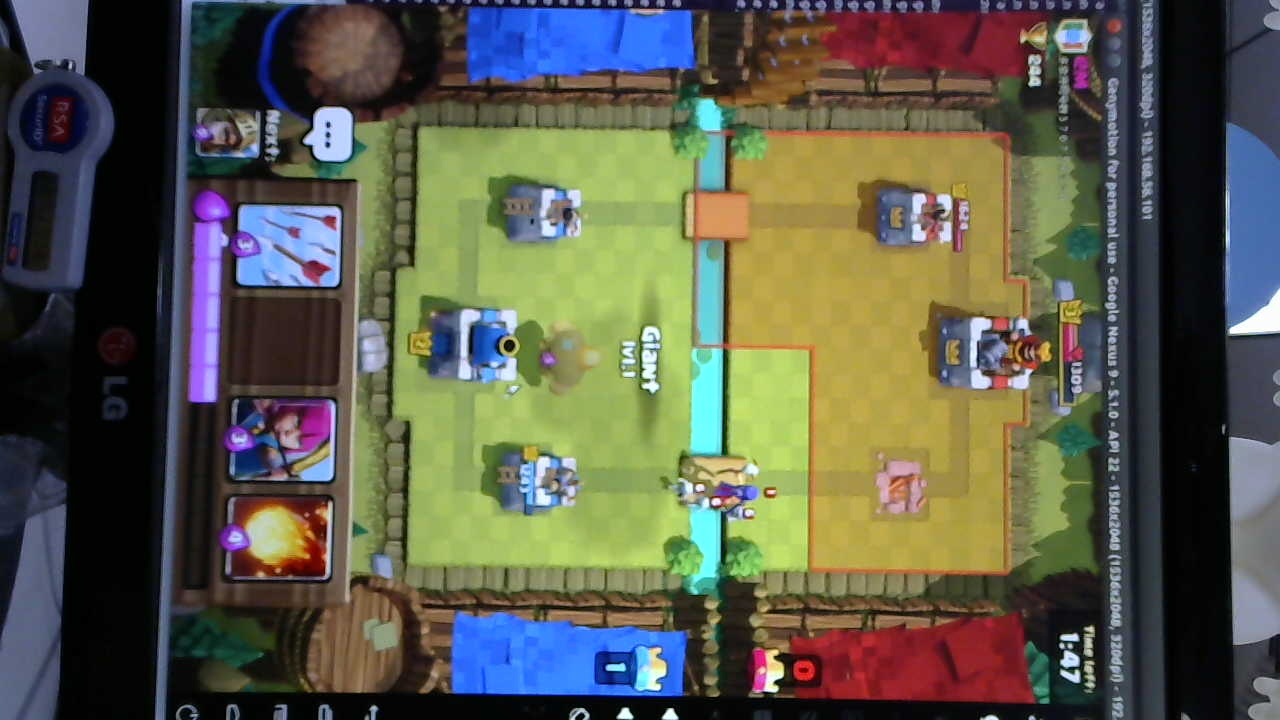arena: (501, 179, 584, 246), (511, 450, 579, 510)
darena: (872, 455, 927, 520)
earena: (876, 188, 956, 250)
eking: (930, 311, 1041, 391)
king: (435, 307, 526, 387)
witch: (706, 459, 763, 510)
